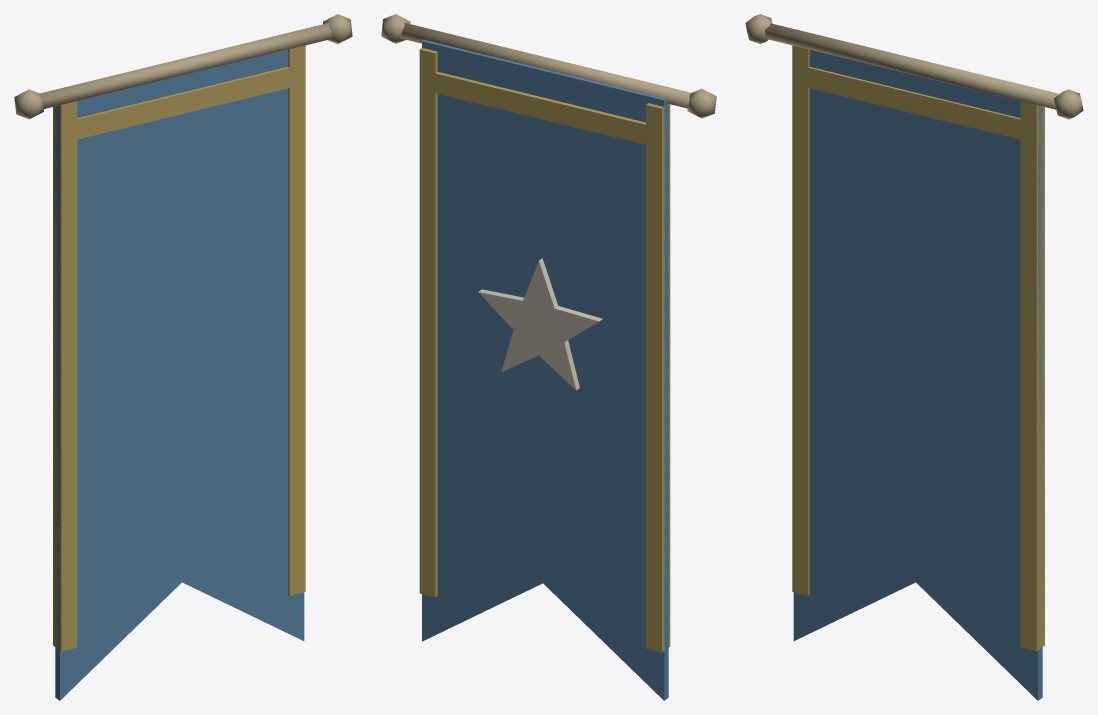
File: twinkle_popper_banner_v0.glb
3 renders of one model, left to right at view 1: azimuth 30°, elevation 25°; view 2: azimuth 150°, elevation 25°; view 3: azimuth 330°, elevation 25°, orthographic.
Parts seen in each view (by area): view 1: twinkle_popper_banner_v0; view 2: twinkle_popper_banner_v0; view 3: twinkle_popper_banner_v0.
Part boxes in pixels (box(x1,y1,x2,y2)): twinkle_popper_banner_v0: box(14, 14, 352, 700); twinkle_popper_banner_v0: box(381, 14, 716, 700); twinkle_popper_banner_v0: box(745, 14, 1083, 700).
Size of the model in its own units: 1.04 by 1.84 by 0.0933.
